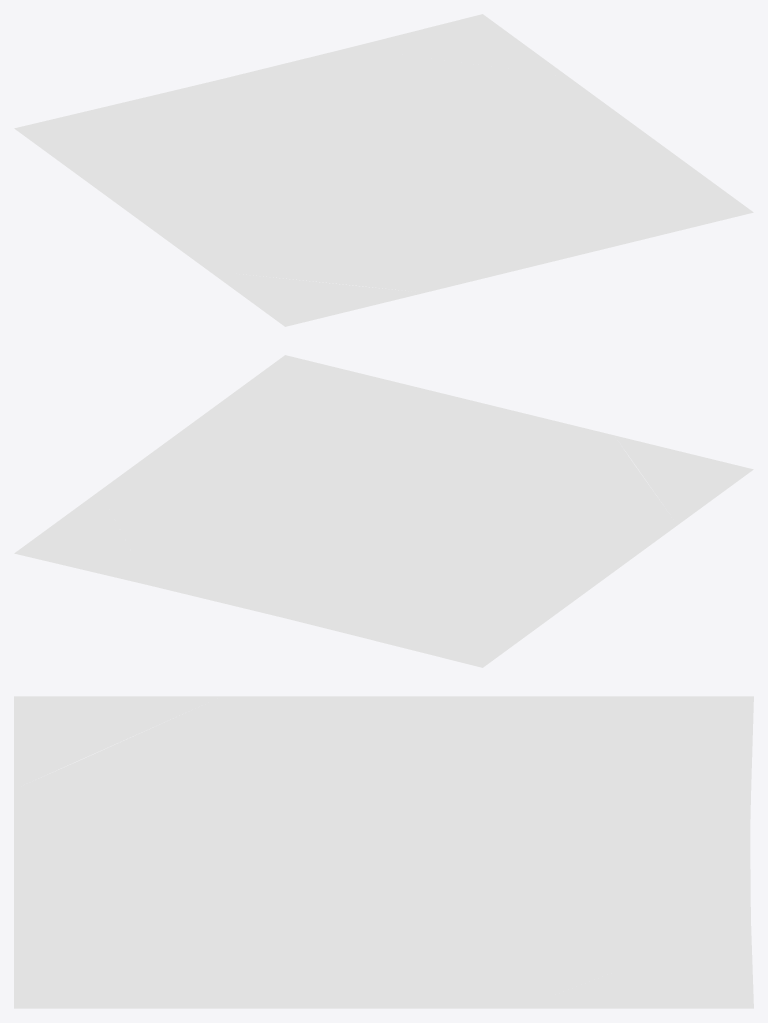
File: FieldHexagramBara.fbx
The picture shows the model from 3 angles, top to bottom: view 1: azimuth 30°, elevation 25°; view 2: azimuth 150°, elevation 25°; view 3: azimuth 270°, elevation 25°; orthographic projection. The views are drawn at different scales.
Parts seen in each view (by area): view 1: Plane.000, Plane.118, Plane.121, Plane.120, Plane.079, Plane.001, Plane.119, Plane.106, Plane.108, Plane.012, Plane.078, Plane.081 (+56 smaller); view 2: Plane.000, Plane.118, Plane.121, Plane.120, Plane.079, Plane.001, Plane.108, Plane.119, Plane.106, Plane.012, Plane.078, Plane.081 (+57 smaller); view 3: Plane.000, Plane.118, Plane.121, Plane.120, Plane.079, Plane.001, Plane.108, Plane.119, Plane.106, Plane.012, Plane.078, Plane.081 (+63 smaller).
Part boxes in pixels (<box>): Plane.000: <box>14,14,753,326</box>; Plane.118: <box>290,48,374,125</box>; Plane.121: <box>351,47,492,96</box>; Plane.120: <box>350,48,433,125</box>; Plane.079: <box>209,241,355,285</box>; Plane.001: <box>425,241,536,292</box>; Plane.119: <box>221,47,349,100</box>; Plane.106: <box>165,126,256,179</box>; Plane.108: <box>93,127,178,185</box>; Plane.012: <box>481,77,580,125</box>; Plane.078: <box>263,241,378,285</box>; Plane.081: <box>93,186,208,270</box>; Plane.000: <box>14,355,753,667</box>; Plane.118: <box>150,537,296,585</box>; Plane.121: <box>117,523,207,584</box>; Plane.120: <box>149,530,296,585</box>; Plane.079: <box>590,464,676,525</box>; Plane.001: <box>492,408,613,449</box>; Plane.108: <box>418,581,560,624</box>; Plane.119: <box>149,581,287,616</box>; Plane.106: <box>358,568,486,613</box>; Plane.012: <box>100,461,236,499</box>; Plane.078: <box>540,464,633,519</box>; Plane.081: <box>561,525,676,609</box>; Plane.000: <box>14,696,753,1008</box>; Plane.118: <box>515,853,749,919</box>; Plane.121: <box>556,919,749,977</box>; Plane.120: <box>516,878,750,927</box>; Plane.079: <box>81,696,267,759</box>; Plane.001: <box>14,789,137,864</box>; Plane.108: <box>493,696,676,758</box>; Plane.119: <box>644,833,750,919</box>; Plane.106: <box>474,762,655,818</box>; Plane.012: <box>374,934,518,1008</box>; Plane.078: <box>81,743,267,798</box>; Plane.081: <box>223,696,538,723</box>.
Size of the model in its own units: 770 by 0.000126 by 771.
